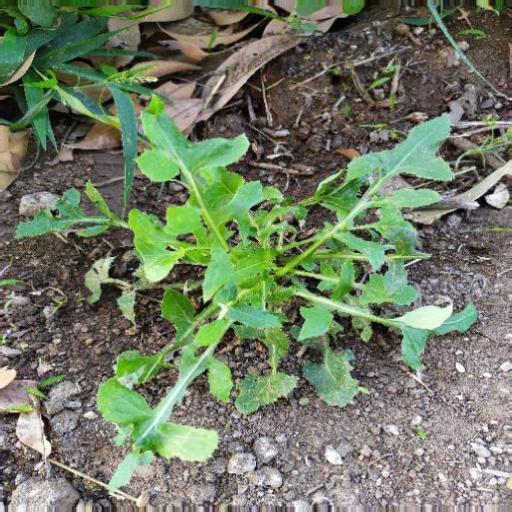weed: (62, 91, 486, 474)
